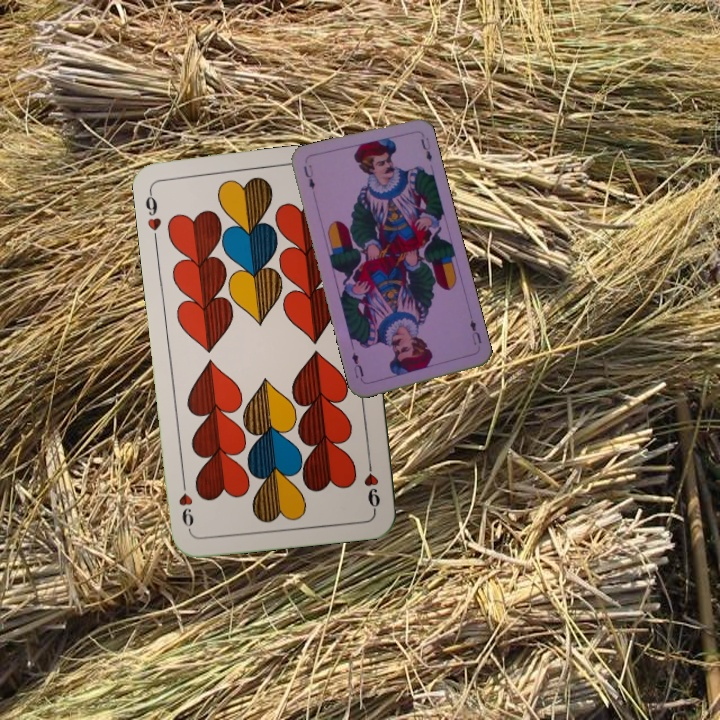EU: (465, 316, 484, 348), (299, 160, 317, 192)
H9: (360, 454, 383, 513), (141, 186, 164, 233)
